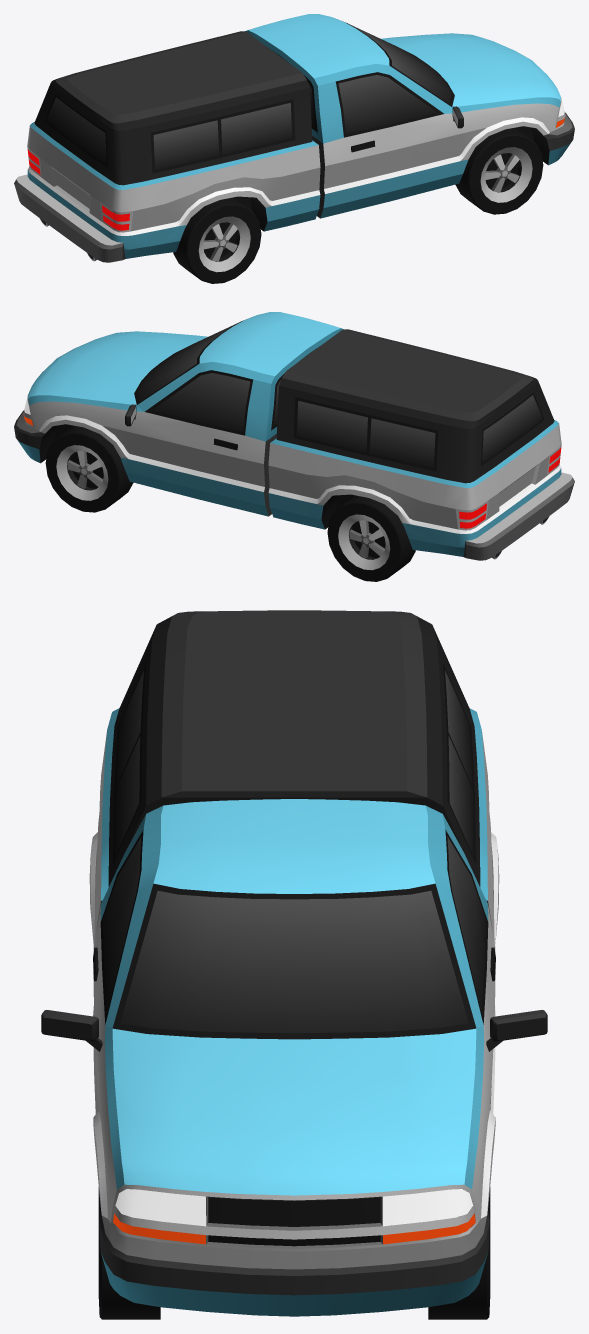
File: Car_069.glb
The picture shows the model from 3 angles, top to bottom: view 1: azimuth 30°, elevation 25°; view 2: azimuth 150°, elevation 25°; view 3: azimuth 270°, elevation 25°; orthographic projection. The views are drawn at different scales.
Visible parts, largest first — view 1: Car_069, wheel_3_Car_069_Wheel_2R, wheel_1_Car_069_Wheel_1R; view 2: Car_069, wheel_2_Car_069_Wheel_2L, wheel_0_Car_069_Wheel_1L; view 3: Car_069, wheel_1_Car_069_Wheel_1R, wheel_0_Car_069_Wheel_1L.
Part boxes in pixels (x1=…): Car_069: x1=14, y1=14, x2=574, y2=262; wheel_3_Car_069_Wheel_2R: x1=173, y1=197, x2=261, y2=283; wheel_1_Car_069_Wheel_1R: x1=455, y1=127, x2=543, y2=214; Car_069: x1=14, y1=312, x2=574, y2=560; wheel_2_Car_069_Wheel_2L: x1=327, y1=495, x2=415, y2=581; wheel_0_Car_069_Wheel_1L: x1=45, y1=425, x2=133, y2=512; Car_069: x1=41, y1=610, x2=547, y2=1316; wheel_1_Car_069_Wheel_1R: x1=98, y1=1187, x2=160, y2=1319; wheel_0_Car_069_Wheel_1L: x1=428, y1=1187, x2=490, y2=1319.
Bounding box in the file's own units: 5.15 × 1.72 × 2.3.
2 materials, 2 textured.
